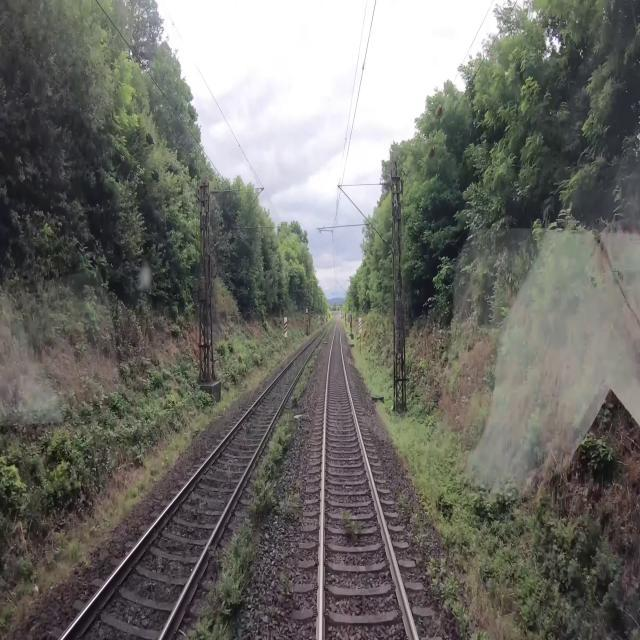Plant: (182, 519, 256, 639), (250, 411, 303, 524), (290, 320, 336, 408), (427, 551, 468, 639), (398, 491, 430, 551), (266, 571, 295, 627), (339, 507, 364, 543), (471, 624, 490, 639)
